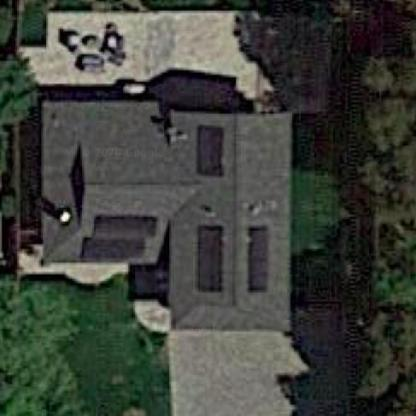solar_panel: (72, 209, 159, 265), (188, 215, 227, 298), (193, 117, 231, 184), (244, 223, 272, 296)
